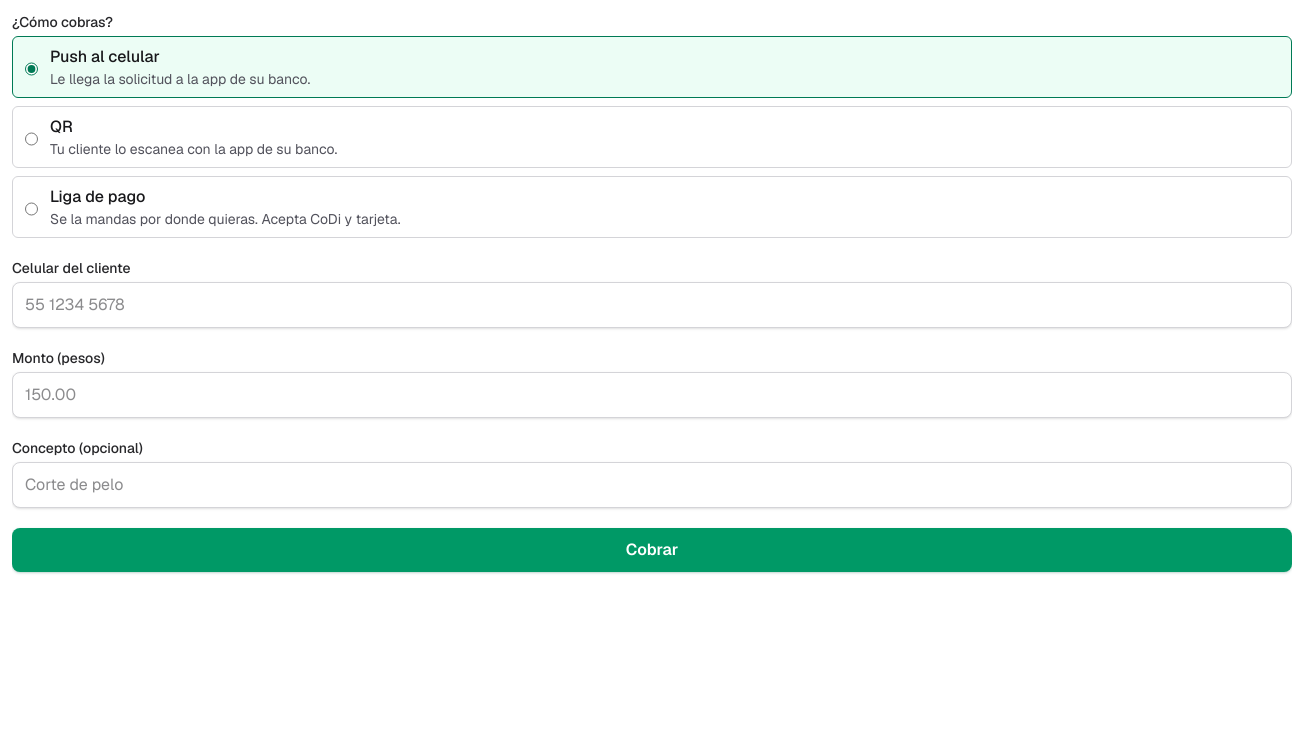
Test: NewChargeForm › un error de la API aparece como alerta
Click the radio button labelled "QR Tu cliente lo escanea con la app de su banco." at (32, 139), box [25, 119, 38, 159]
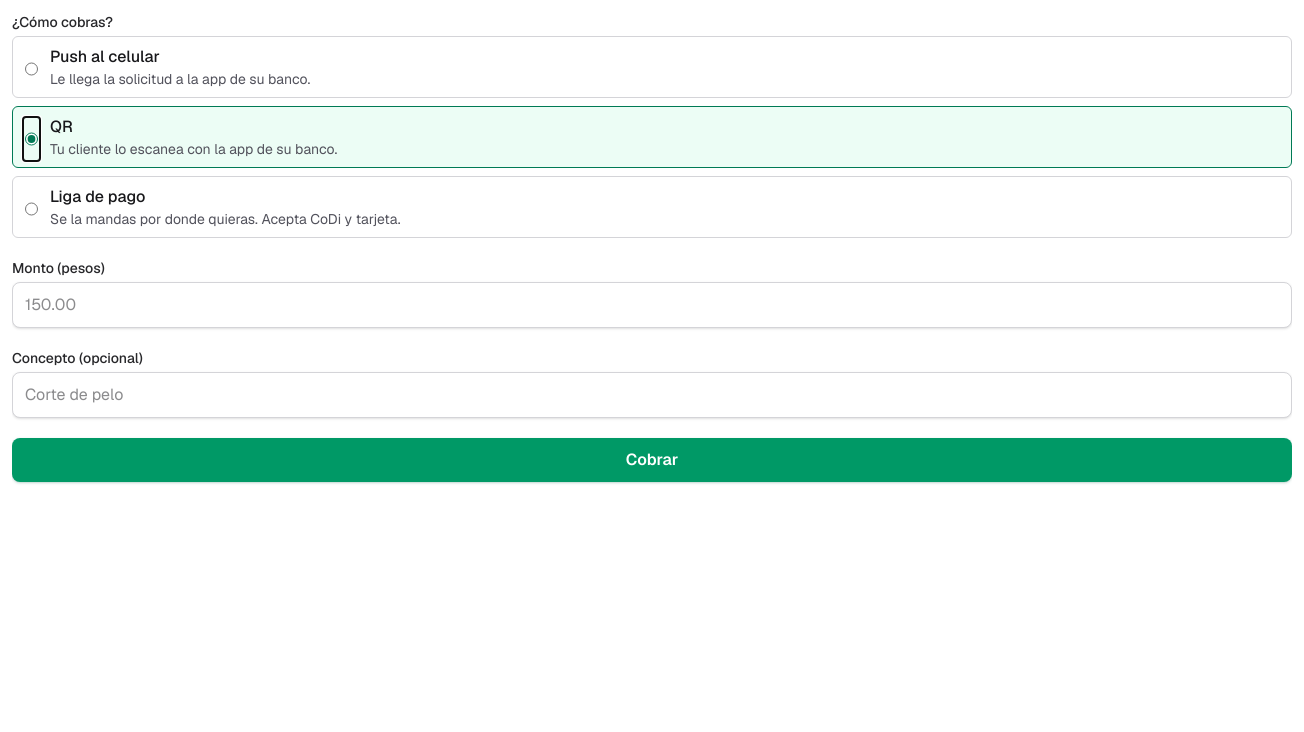
Type "500" into the field labelled "Monto (pesos)" at (652, 305), box [12, 282, 1292, 328]
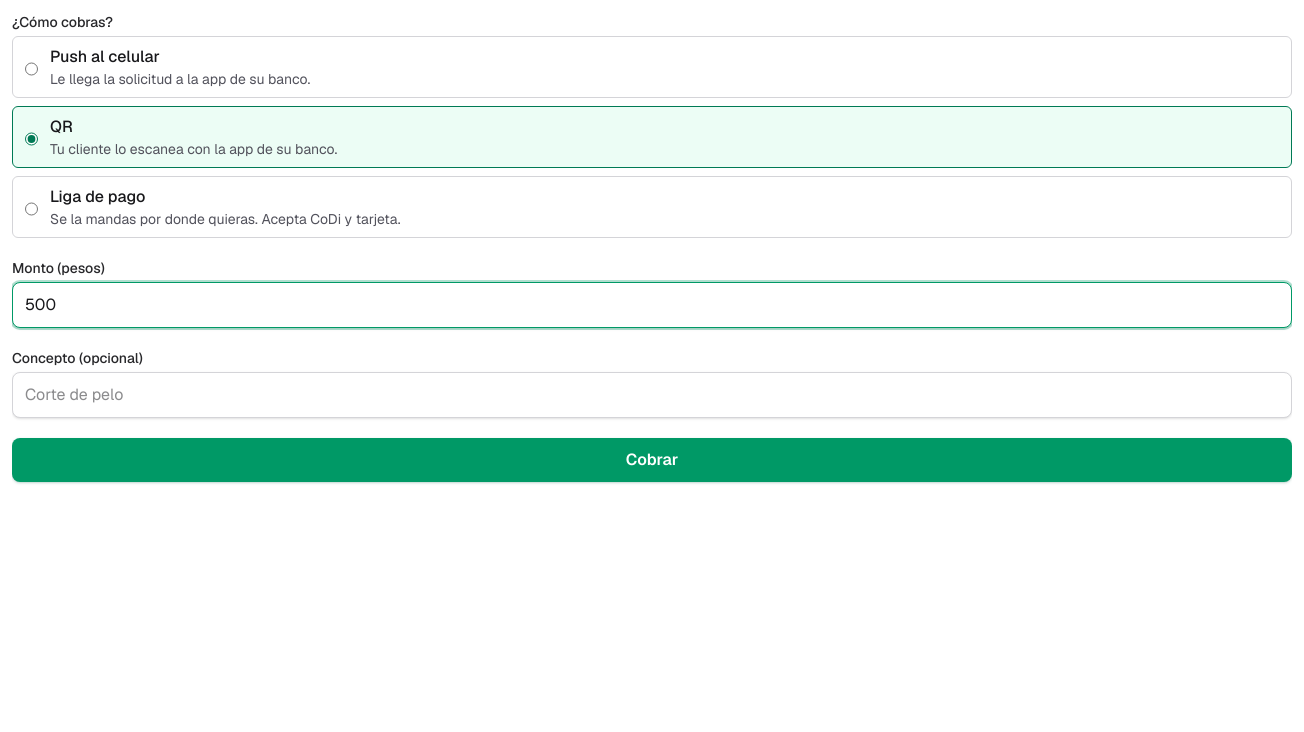
Click the button "Cobrar" at (652, 460), box [12, 438, 1292, 482]
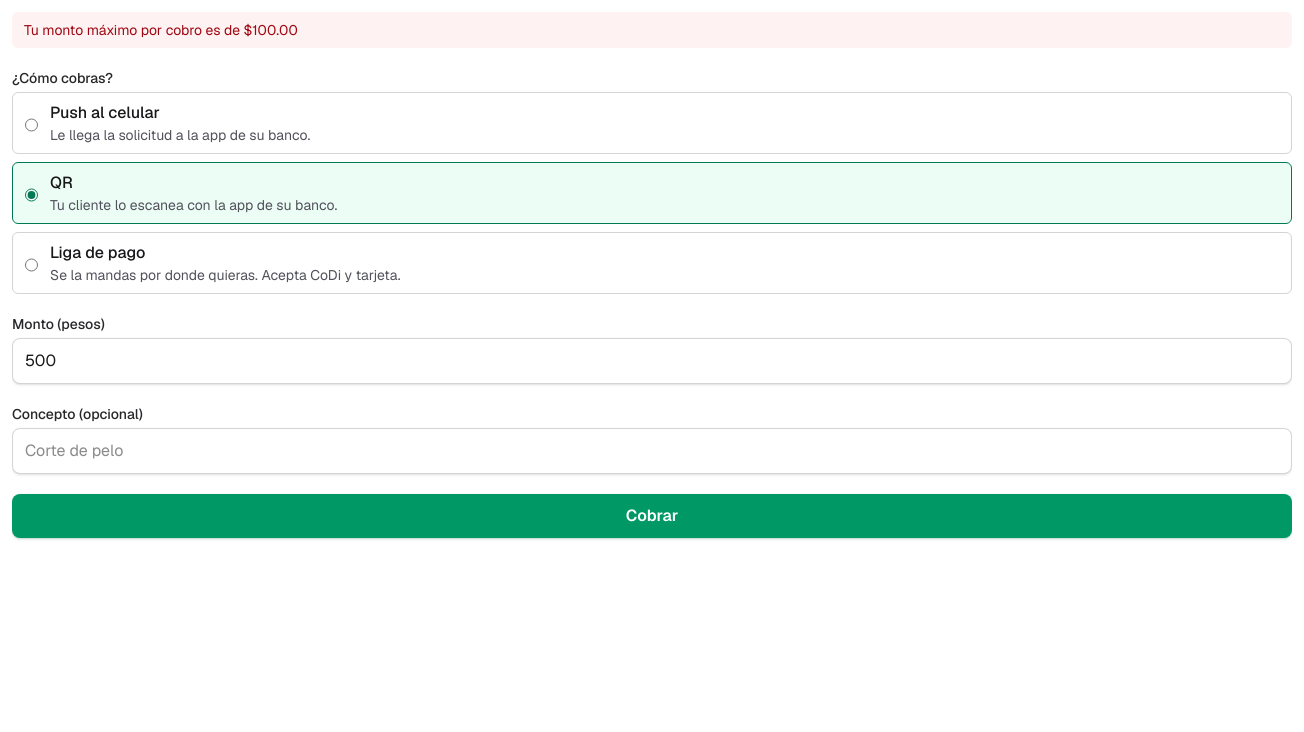
Now the radio button labelled "QR Tu cliente lo escanea con la app de su banco." is checked, box [25, 175, 38, 215]
Now the message shows "Tu monto máximo", box [24, 21, 298, 39]
